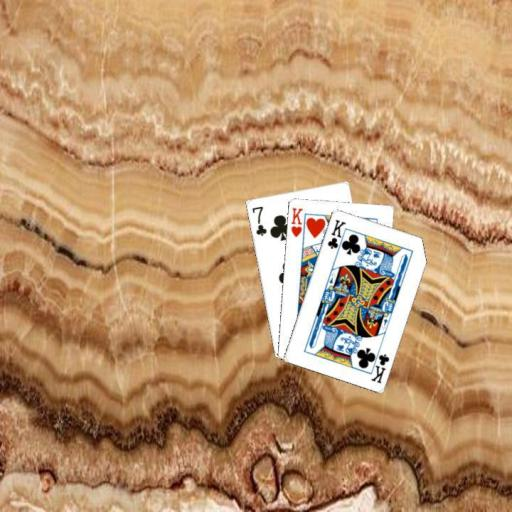7C: (248, 203, 268, 238)
KC: (367, 345, 391, 385), (325, 216, 349, 255)
KH: (287, 205, 304, 238)
